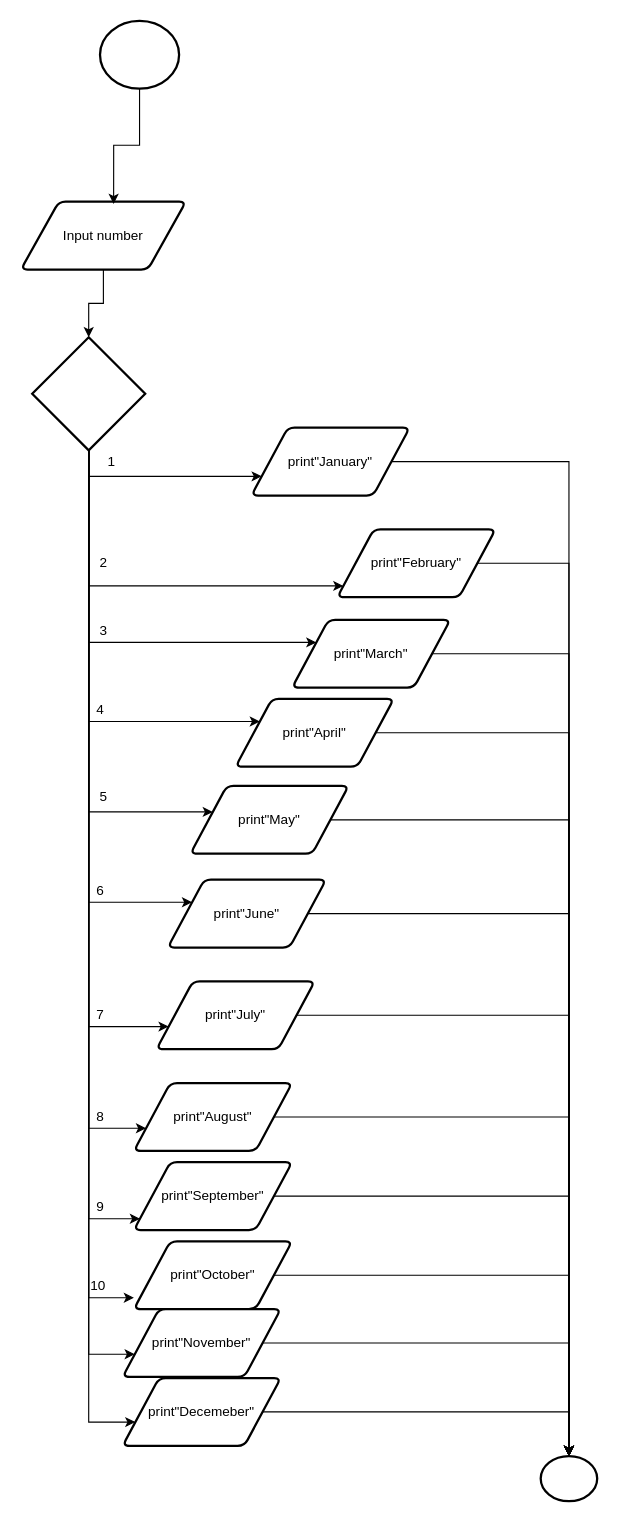
The diagram is 617 pixels wide and 1521 high, and some of its shapes have lost their labels. The shapes that lost their labels are listed below. From the top down, each one's box as (x1, y1, x2, y2) in pixels, then its label:
(98, 19, 180, 89): Start
(31, 336, 146, 451): month
